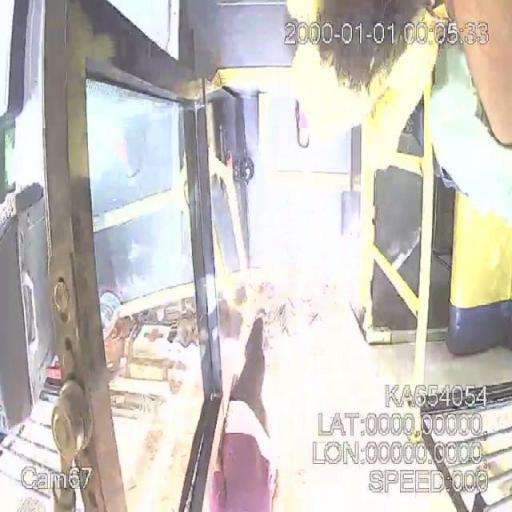persona: (208, 315, 278, 511)
